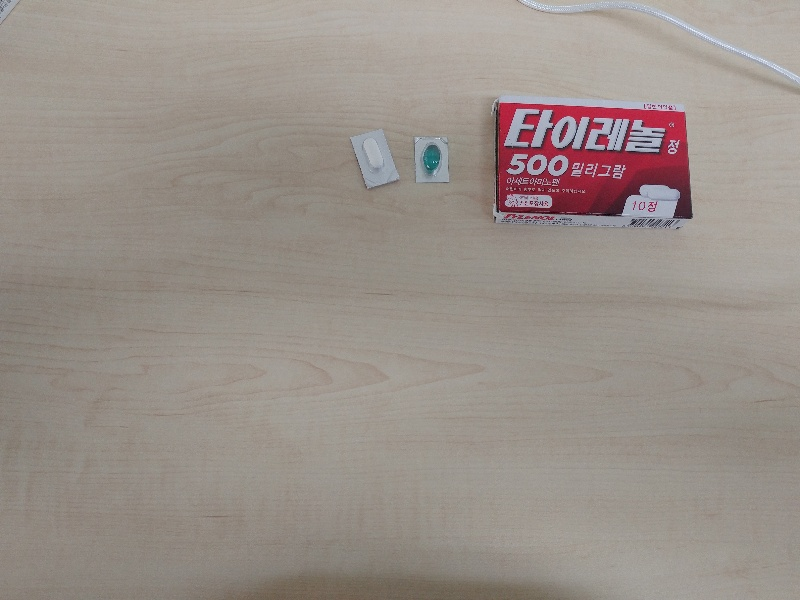pill_ezn: (414, 136, 449, 182)
pill_tylenol: (349, 128, 401, 190)
tylenol: (494, 96, 693, 230)
